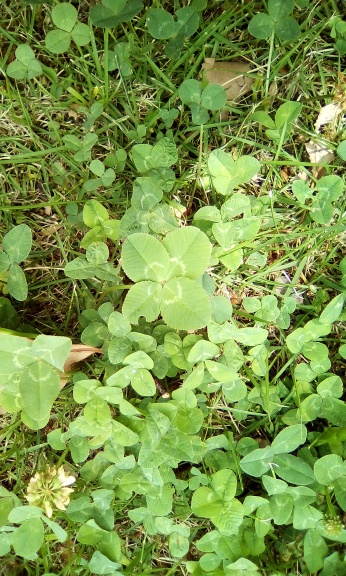4leaf: (121, 226, 212, 329)
